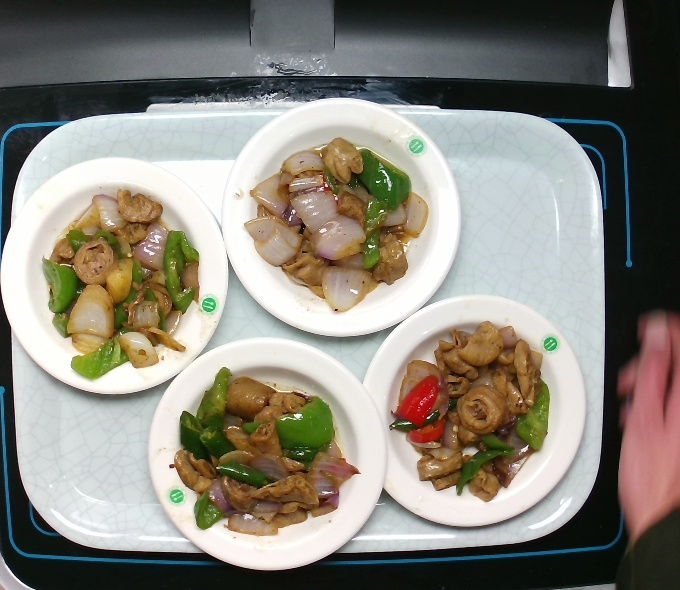wcq-QingJiaoChaoDaChang: (239, 134, 432, 316), (170, 360, 363, 542), (37, 185, 207, 385), (387, 315, 554, 507)
